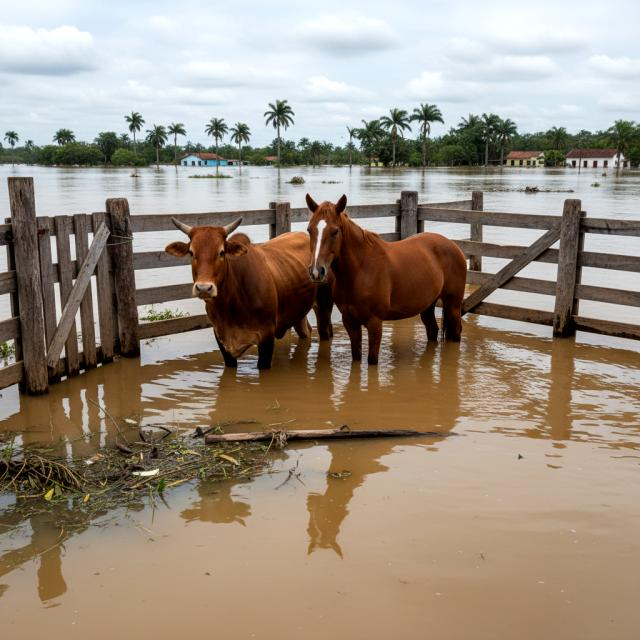cow: (163, 207, 333, 374)
horse: (297, 191, 478, 370)
